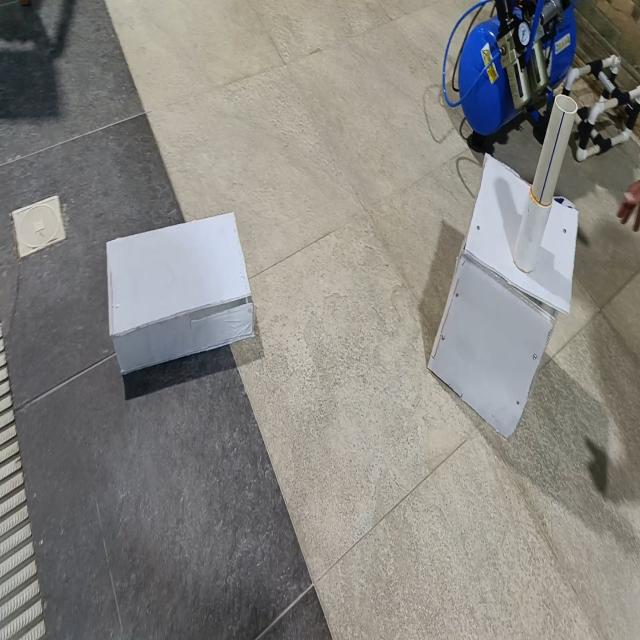Cube: (425, 151, 579, 448)
Cuboid: (105, 209, 255, 376)
